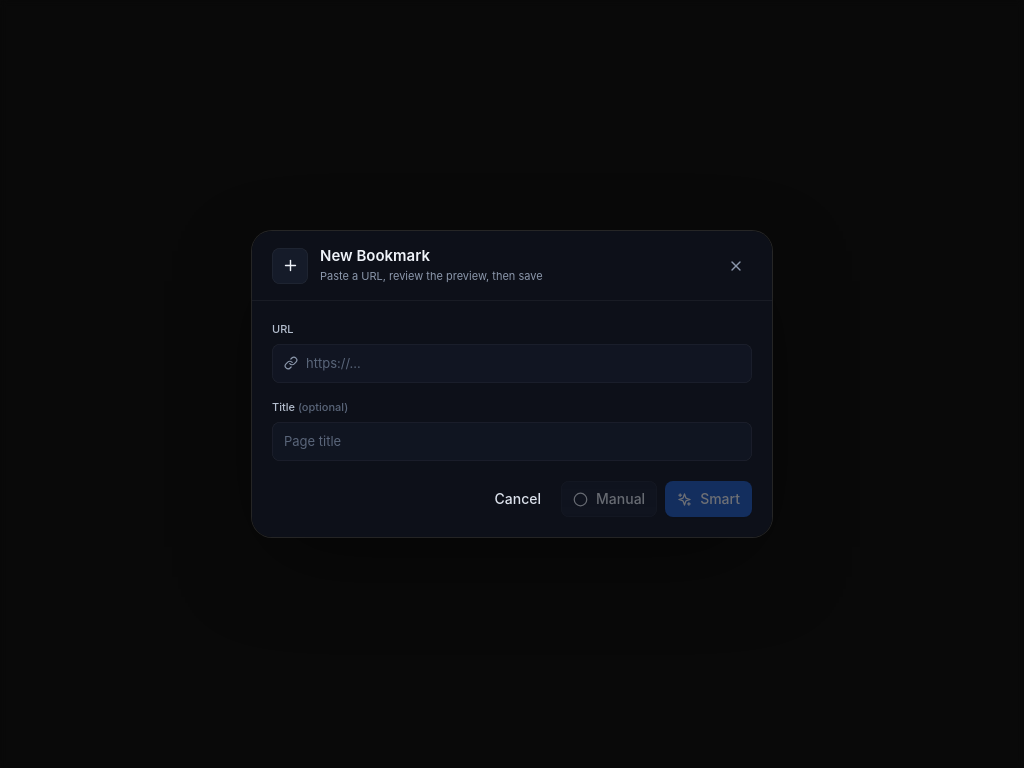
it: NewBookmarkDialog Manual 与 Smart 入口 › 在 URL 输入框按 Enter 调用一次 AI 分析
The image size is (1024, 768).
Type "https://example.test/enter" into the field named "Bookmark URL". click: (523, 363)
box: [306, 354, 740, 373]
Then press Enter
(page scrolled)
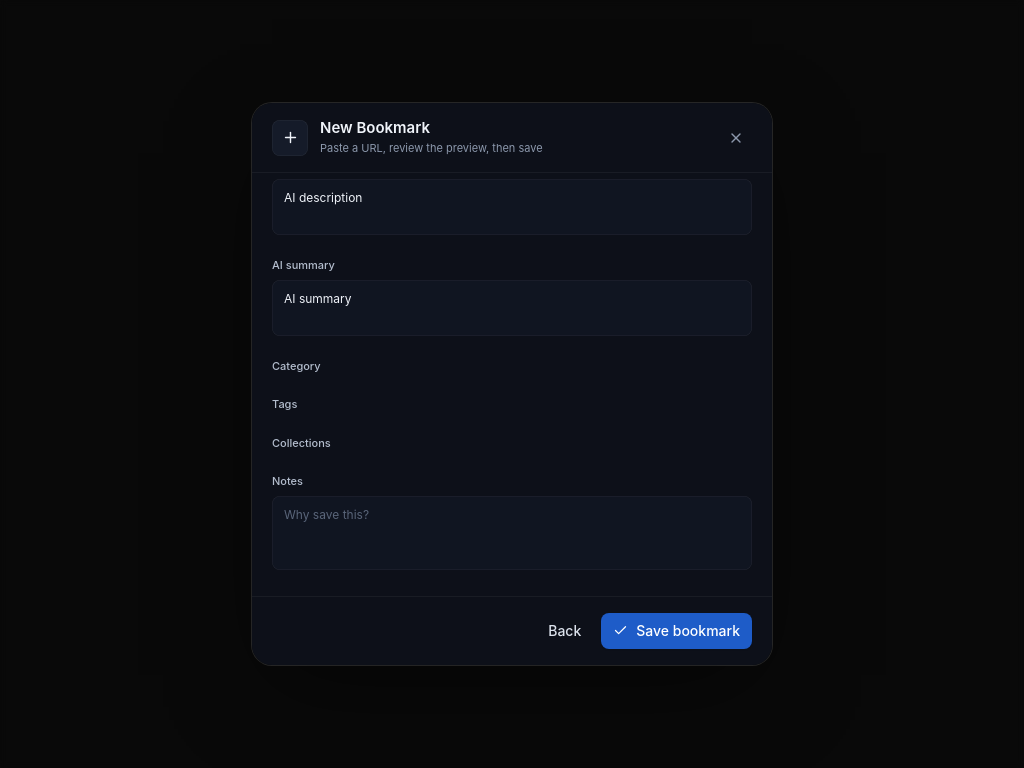
Now the button "Save bookmark" is shown, box [601, 613, 752, 649]
